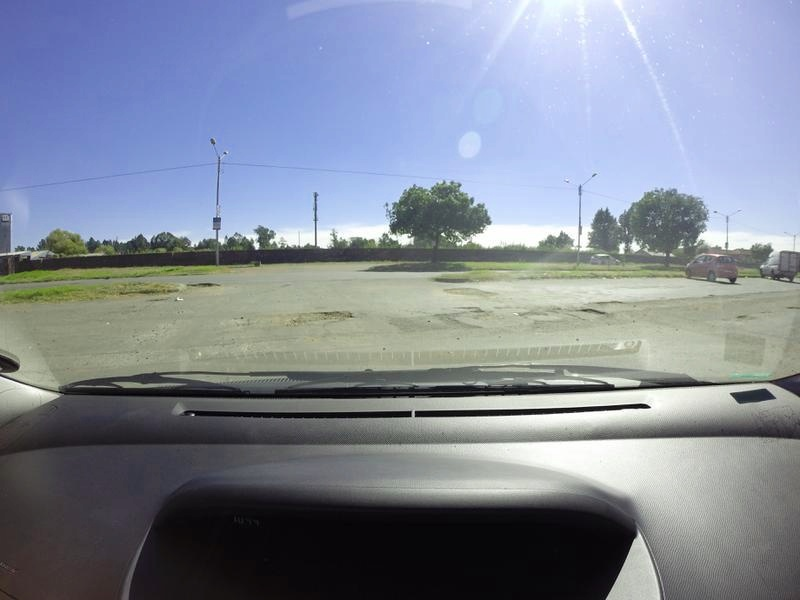pothole: (402, 304, 487, 335), (282, 300, 360, 328), (445, 283, 505, 301), (519, 303, 552, 331), (186, 275, 229, 294), (591, 290, 627, 309), (733, 306, 759, 327), (576, 304, 606, 320)
